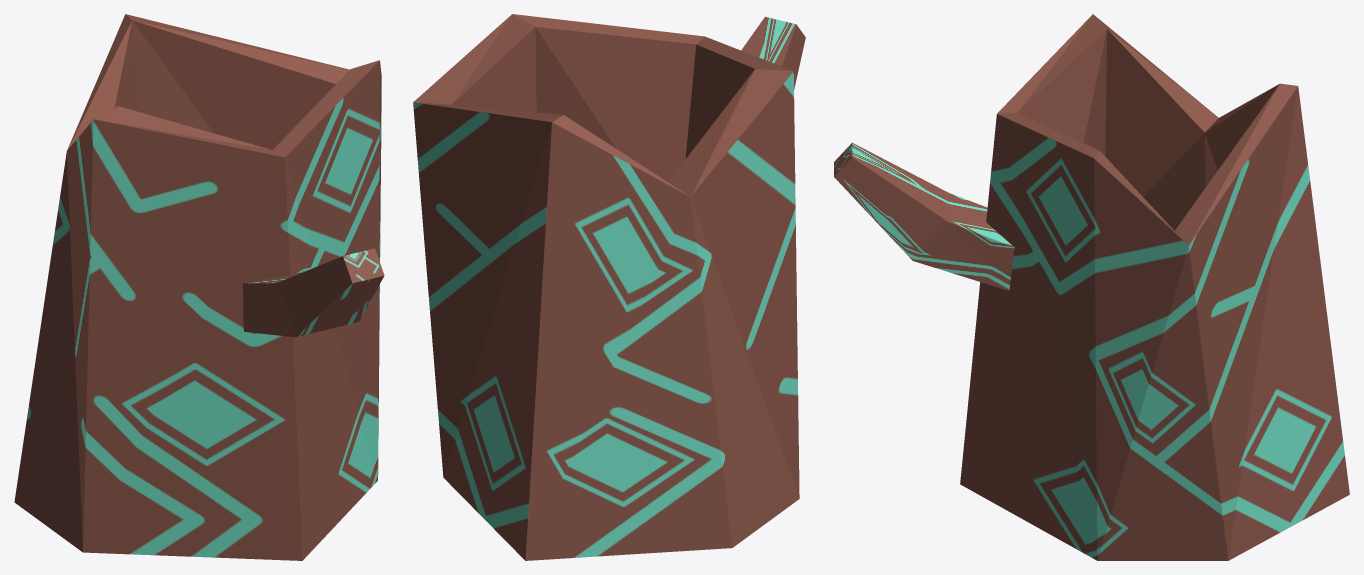
File: tree_stump.fbx
The picture shows the model from 3 angles, left to right: view 1: azimuth 30°, elevation 25°; view 2: azimuth 150°, elevation 25°; view 3: azimuth 270°, elevation 25°; orthographic projection. The views are drawn at different scales.
Visible parts, largest first — view 1: tree_stump; view 2: tree_stump; view 3: tree_stump.
Part boxes in pixels (bbox=[...]): tree_stump: bbox=[14, 14, 384, 560]; tree_stump: bbox=[413, 14, 805, 560]; tree_stump: bbox=[834, 14, 1349, 560].
Size of the model in its own units: 489 by 586 by 659.
